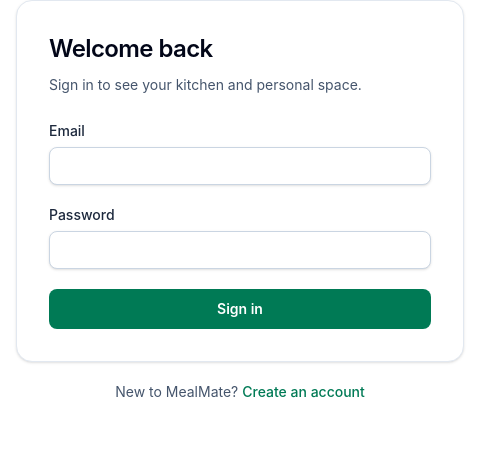
LoginPage › shows the authentication error returned by Supabase
The width and height of the screenshot is (481, 473).
In the field labelled "Email": (240, 166) x1=49 y1=147 x2=431 y2=185, type "alice@example.com"
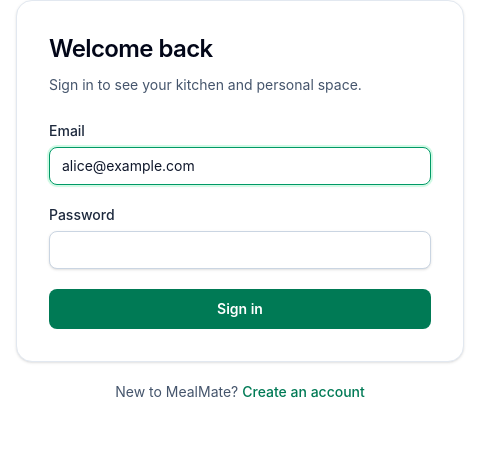
In the password field labelled "Password": (240, 250) x1=49 y1=231 x2=431 y2=269, type "wrong-password"
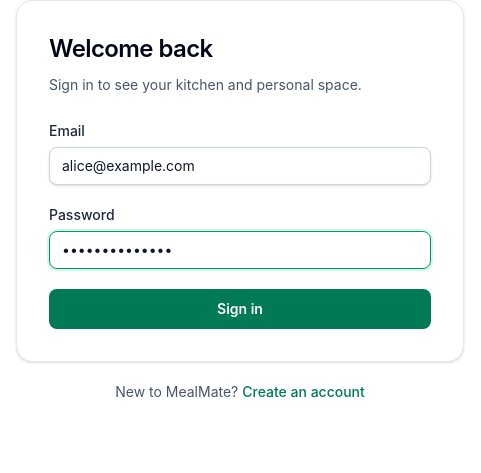
Click the button "Sign in": click(240, 309) x1=49 y1=289 x2=431 y2=329
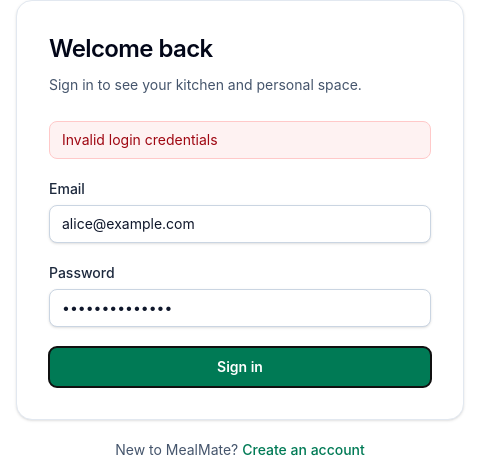
Expected: the message reads "Invalid login credentials", x1=62 y1=131 x2=218 y2=148
